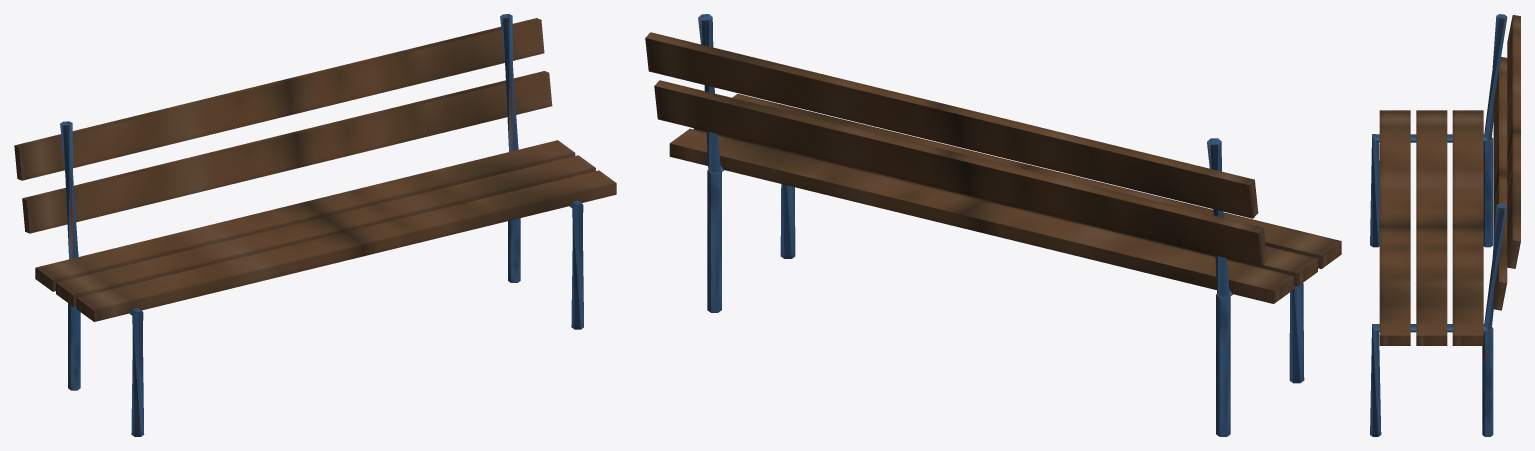
Rendered from bench_entrance.fbx.
The picture shows the model from 3 angles, left to right: view 1: azimuth 30°, elevation 25°; view 2: azimuth 150°, elevation 25°; view 3: azimuth 270°, elevation 25°; orthographic projection. The views are drawn at different scales.
Parts seen in each view (by area): view 1: bench_entrance; view 2: bench_entrance; view 3: bench_entrance.
Boxes of the visible parts, x1=… form: bench_entrance: x1=14, y1=14, x2=616, y2=436; bench_entrance: x1=645, y1=14, x2=1341, y2=436; bench_entrance: x1=1370, y1=14, x2=1520, y2=436.
Size of the model in its own units: 1.9 by 0.9021 by 0.5381.
